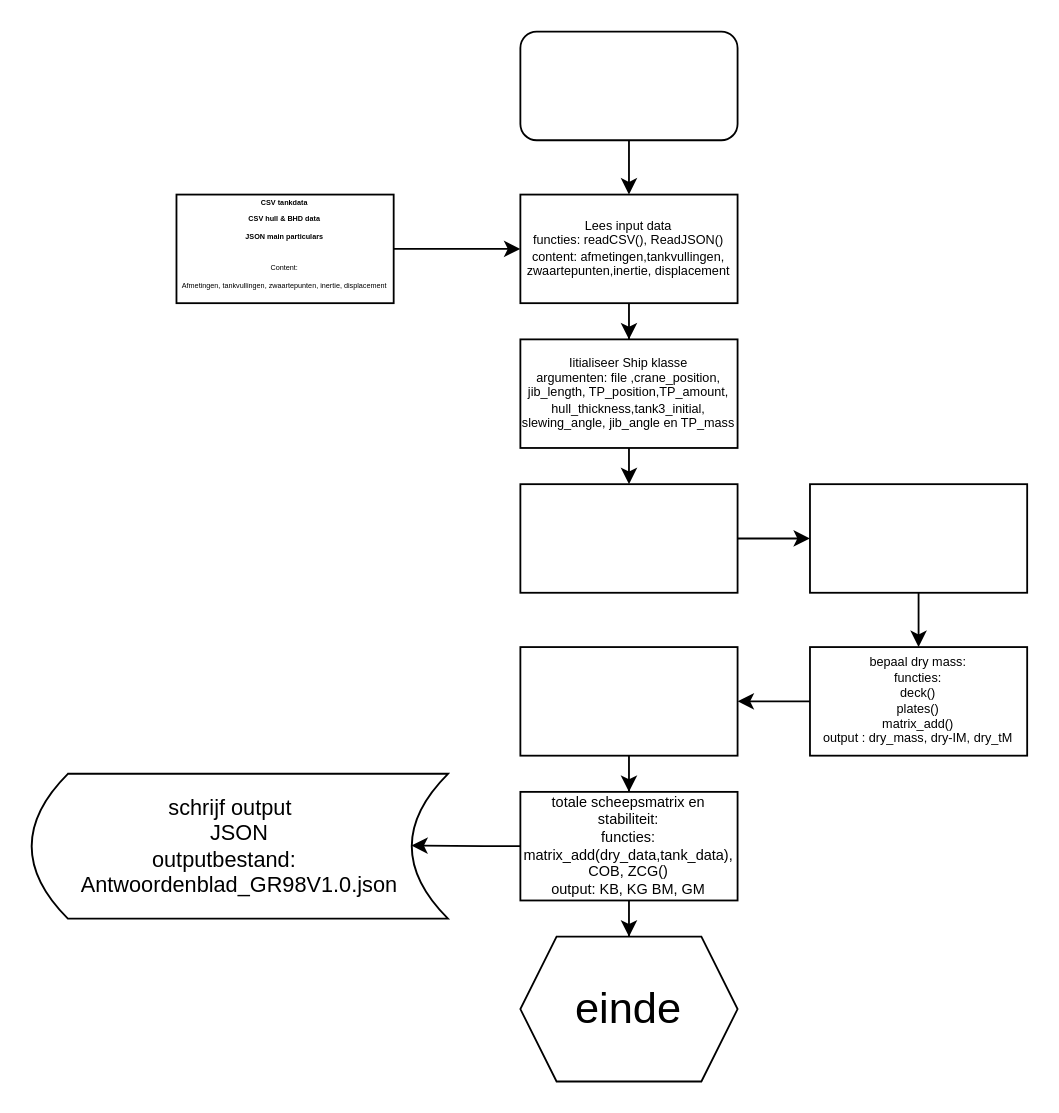
This 1059x1113 diagram has some shape labels left out. Each missing label, with the box of its shape:
bepaal percentages tanks 1 & 2: massa bepalen: (519, 645, 738, 756)
Maak tank objecten: tank 1 tank 2 tank 3: (519, 482, 738, 593)
start: (519, 30, 738, 140)
Tank class aangeroepen interpoleer tanks: functies: percentage_filled.: (808, 482, 1027, 593)
